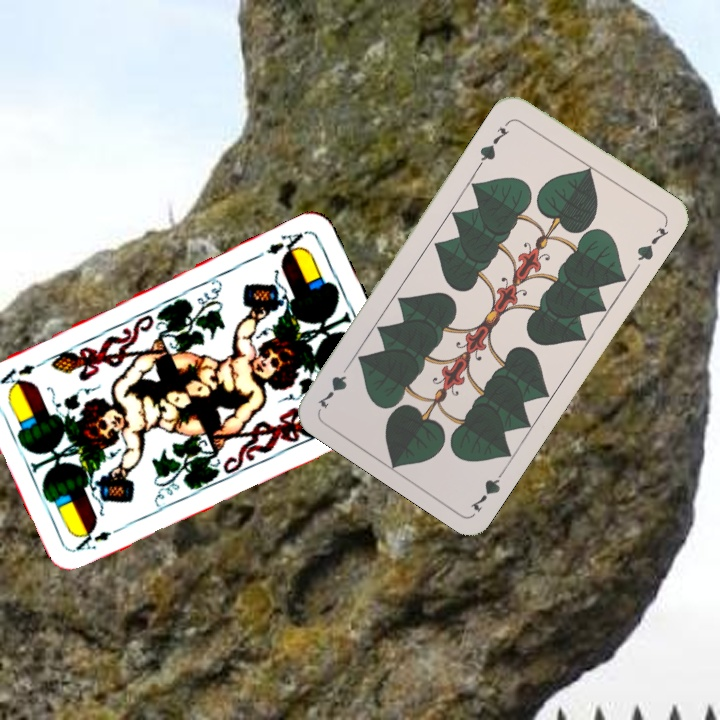EA: (71, 521, 127, 554), (262, 227, 309, 260)
G7: (466, 462, 510, 515), (475, 123, 512, 168)
